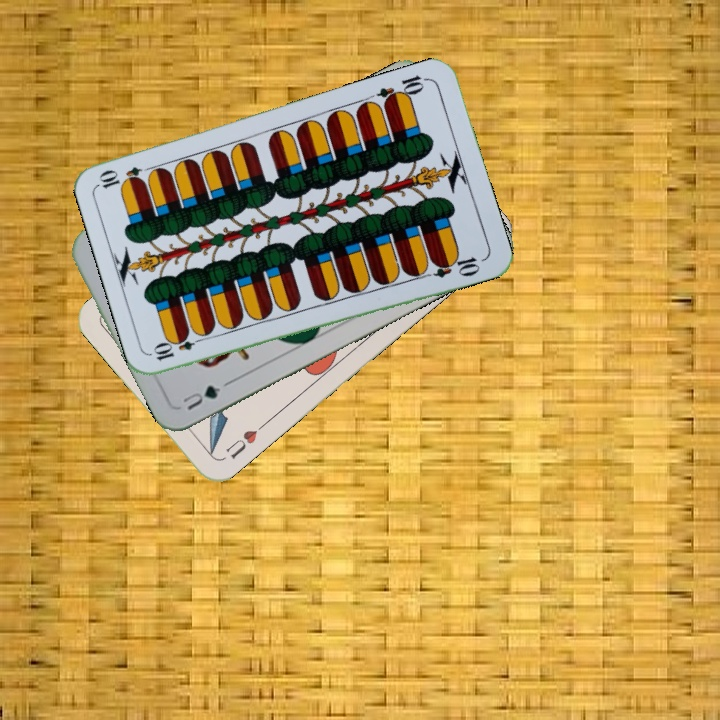E10: (373, 71, 431, 109), (150, 331, 208, 364)
GU: (178, 381, 223, 413)
HU: (221, 419, 268, 462)
